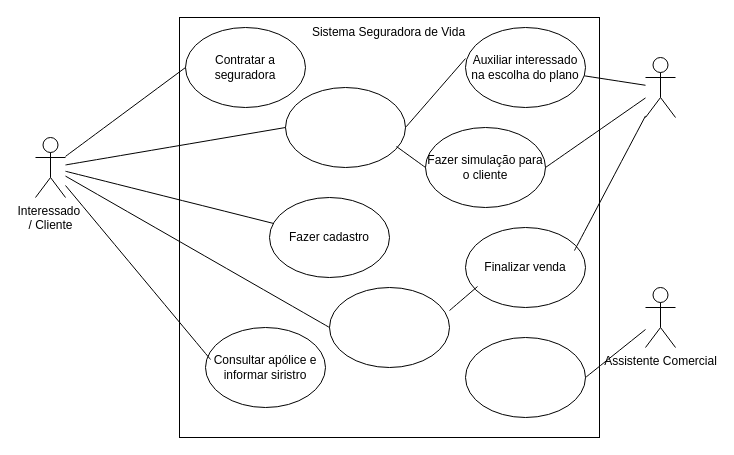
The diagram is 734 pixels wide and 455 high, and some of its shapes have lost their labels. The box of each missing label's shape, as (x1, y1, x2, y2) in pixels:
Agendar reunião entre corretor e cliente: (464, 336, 586, 418)
Consultar planos e valores: (284, 86, 406, 168)
Corretores: (644, 56, 676, 118)
Fazer pagamento: (328, 286, 450, 368)
